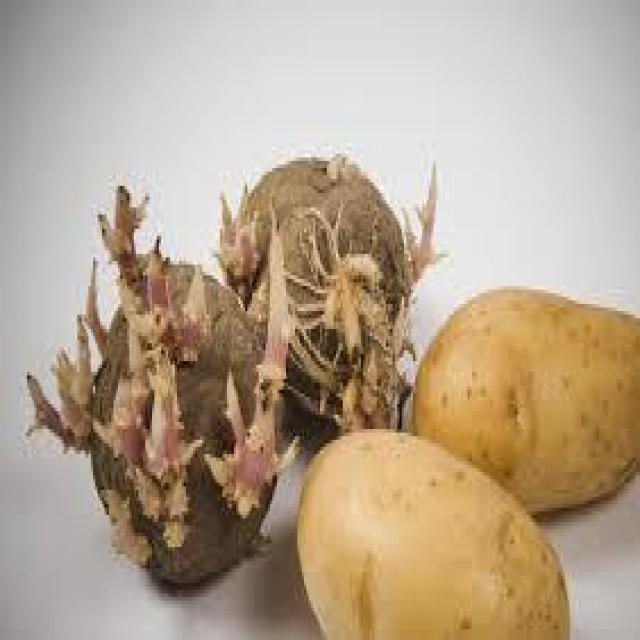potato: (276, 414, 576, 640), (417, 271, 640, 522)
